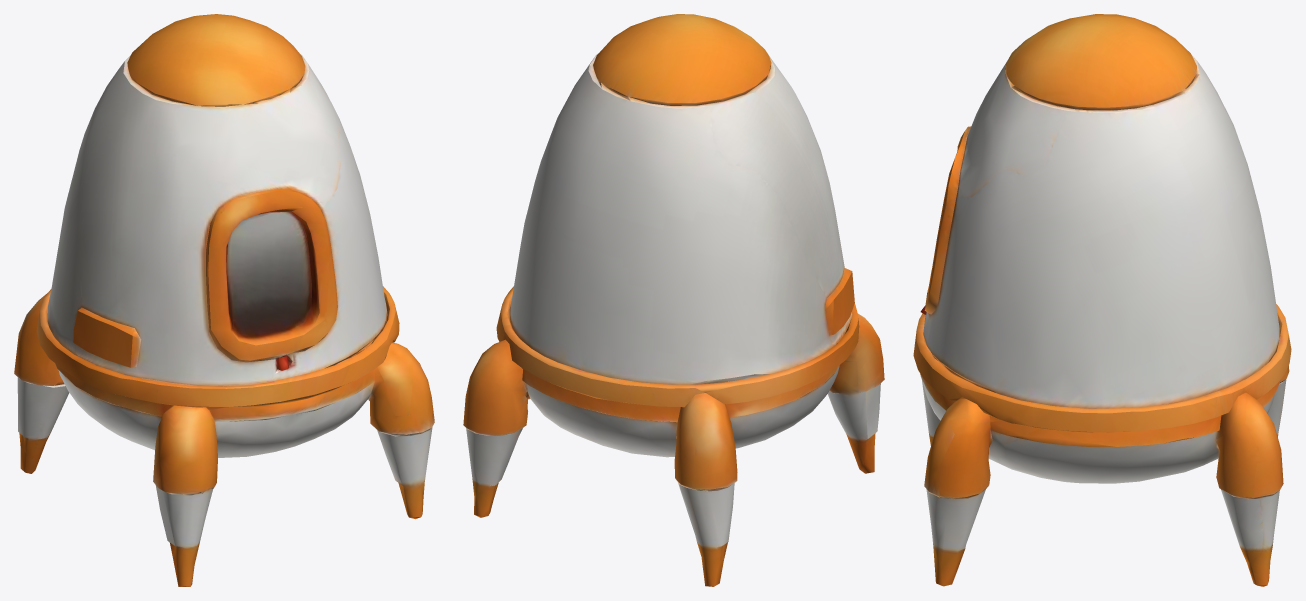
The model's file is landingCapsule.glb.
3 views of the same model, side by side, from view 1: azimuth 30°, elevation 25°; view 2: azimuth 150°, elevation 25°; view 3: azimuth 270°, elevation 25° (orthographic). The views are drawn at different scales.
Visible parts, largest first — view 1: model; view 2: model; view 3: model.
Part boxes in pixels (x1=…): model: x1=14, y1=14, x2=434, y2=586; model: x1=463, y1=14, x2=884, y2=586; model: x1=913, y1=14, x2=1291, y2=586.
Size of the model in its own units: 1.29 by 1.89 by 1.28.
Materials: 1 (1 with a texture image).
